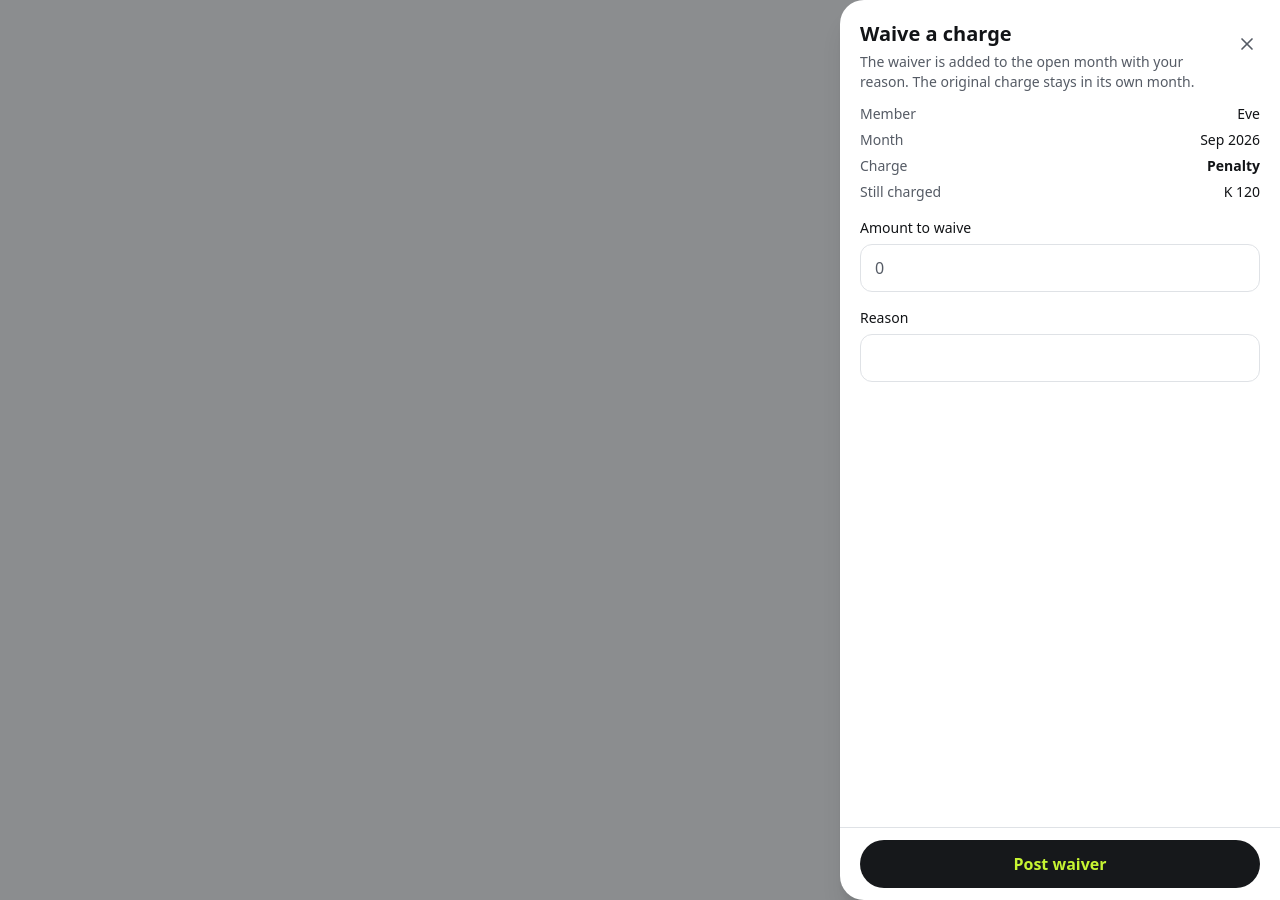
it: a refusal from the engine shows its friendly sentence and keeps the sheet open
This screenshot has width=1280, height=900.
Step 1. Type "50" into the field labelled "Amount to waive" → (1060, 268), box [860,244,1260,292]
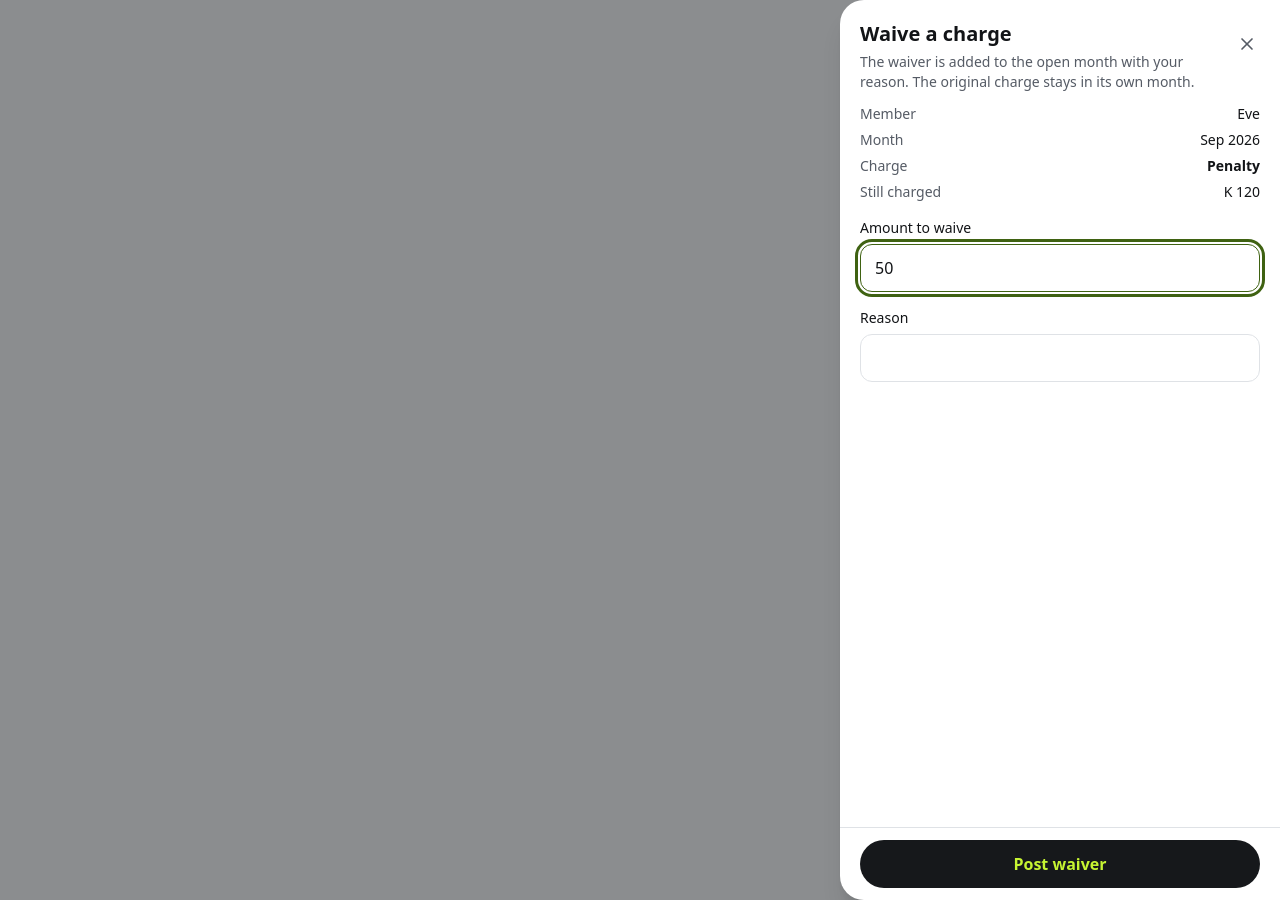
Step 2. Type "x" into the field labelled "Reason" → (1060, 358), box [860,334,1260,382]
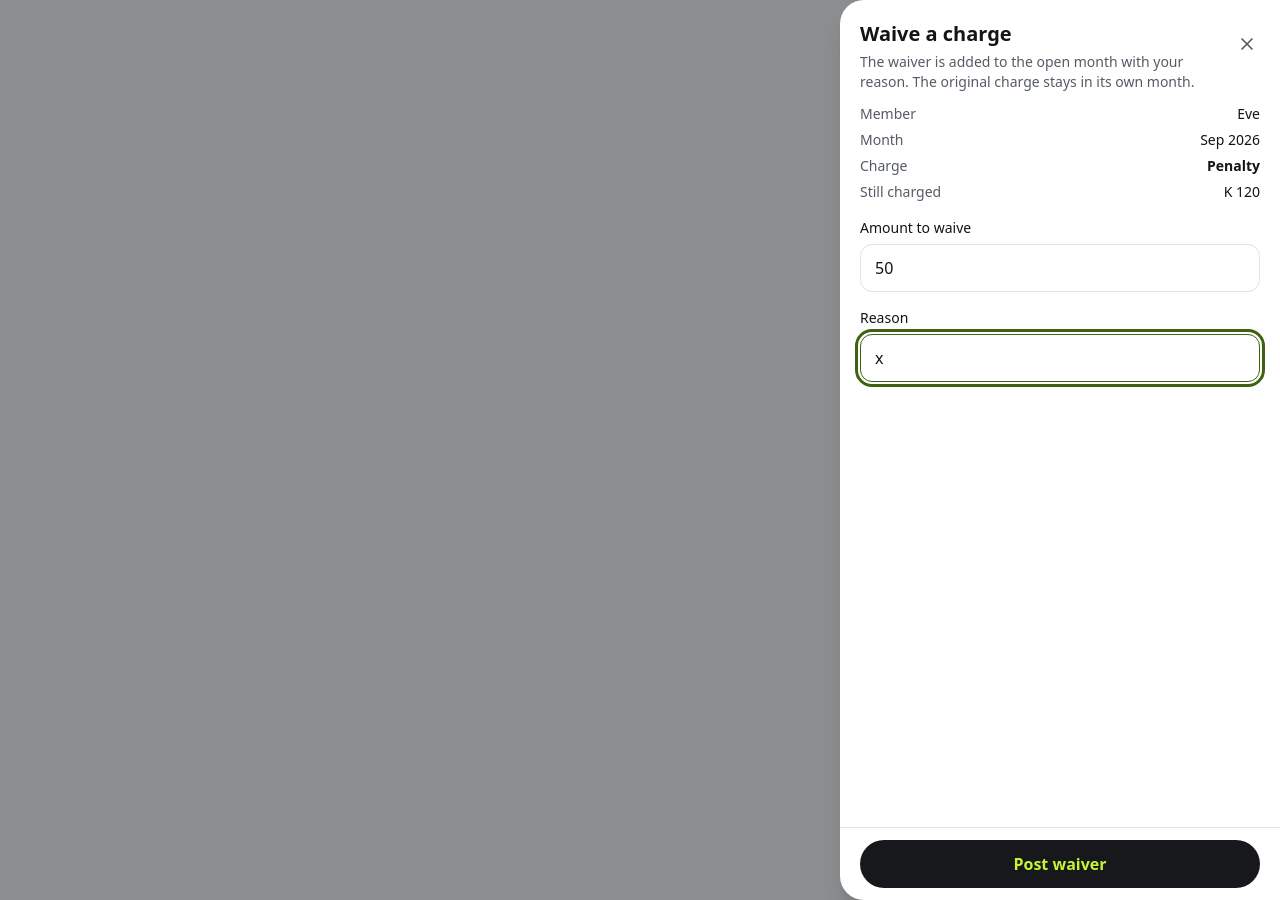
Step 3. Click the button "Post waiver" → (1060, 864), box [860,840,1260,888]
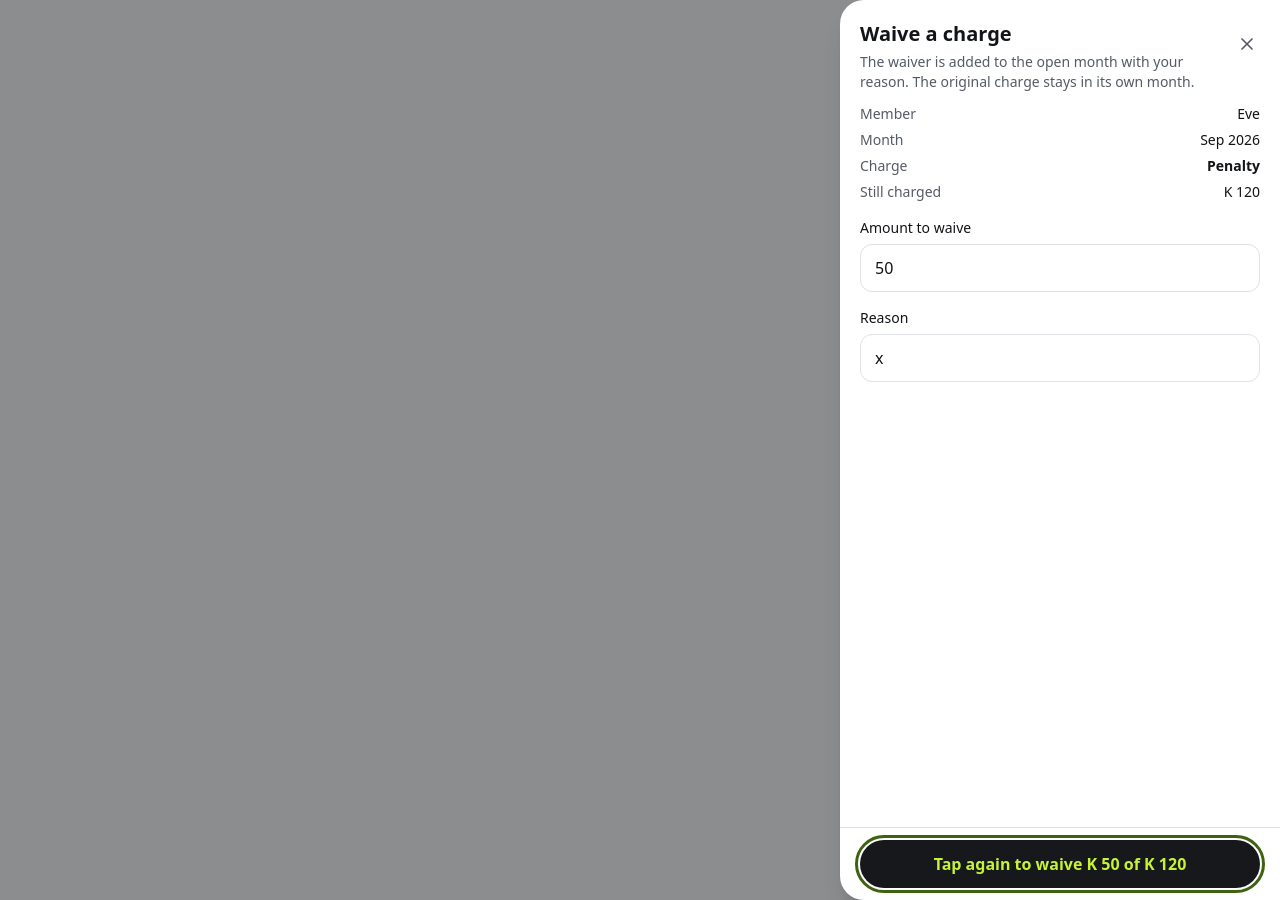
Step 4. Click the button "Tap again to waive K 50 of K 120" → (1060, 864), box [860,840,1260,888]
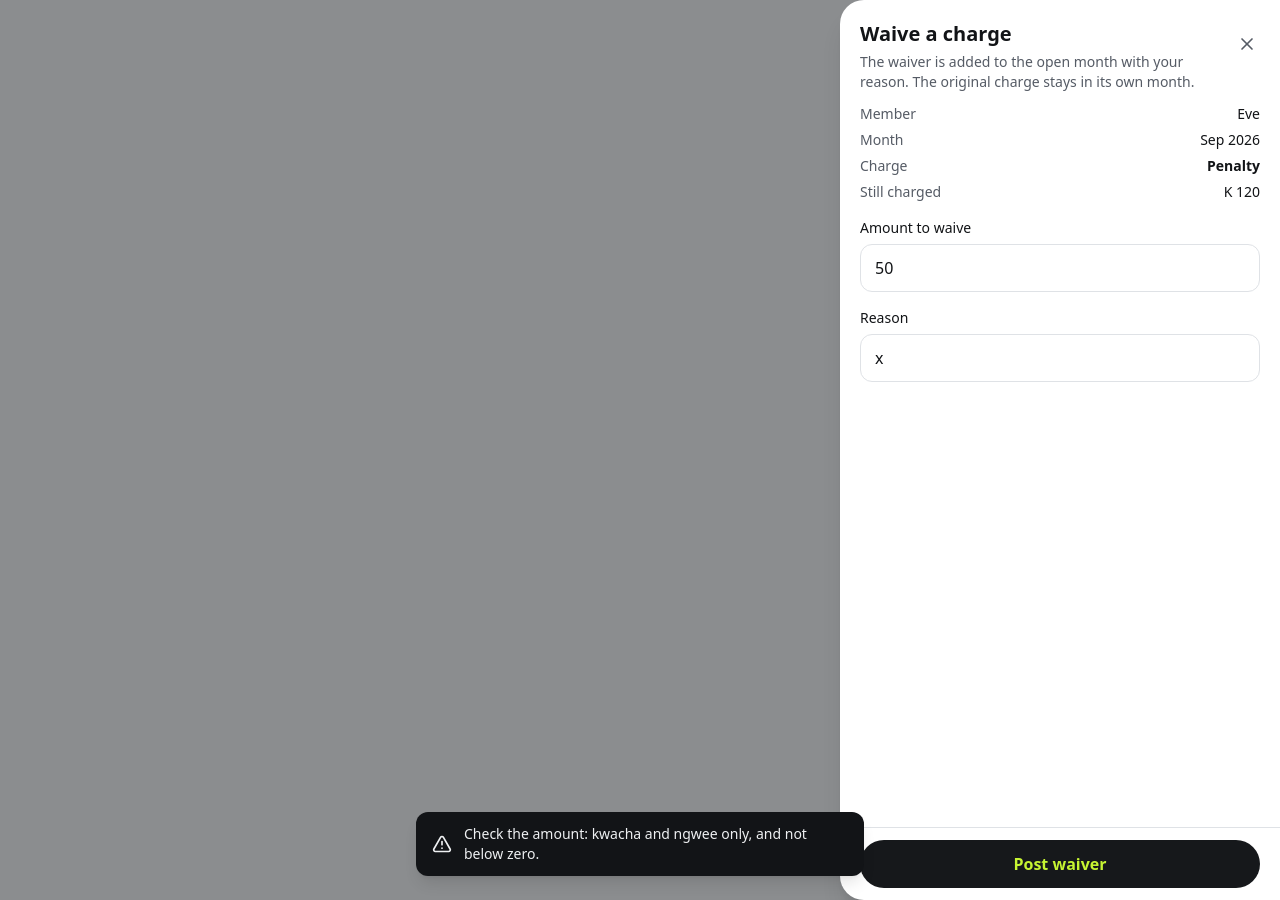
Result: the text "Check the amount: kwacha and ngwee only, and not below zero." is shown at [464,824,848,864]
